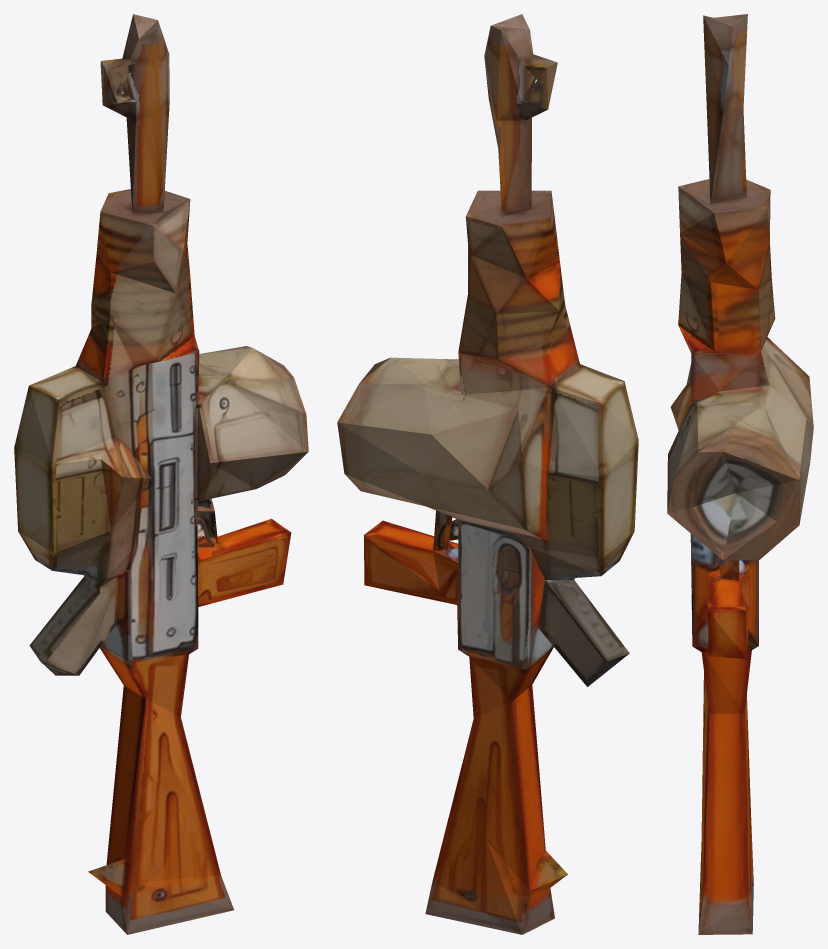
The model's file is rifle_assault_01.glb.
The picture shows the model from 3 angles, left to right: view 1: azimuth 30°, elevation 25°; view 2: azimuth 150°, elevation 25°; view 3: azimuth 270°, elevation 25°; orthographic projection.
Visible parts, largest first — view 1: TexturedMesh_.obj; view 2: TexturedMesh_.obj; view 3: TexturedMesh_.obj.
Boxes of the visible parts, x1,y1,x2,y2 form: TexturedMesh_.obj: (14, 14, 308, 934); TexturedMesh_.obj: (337, 14, 638, 934); TexturedMesh_.obj: (667, 14, 813, 934).
Bounding box in the file's own units: 0.5748 × 1.97 × 0.2958.
1 material, 1 textured.
